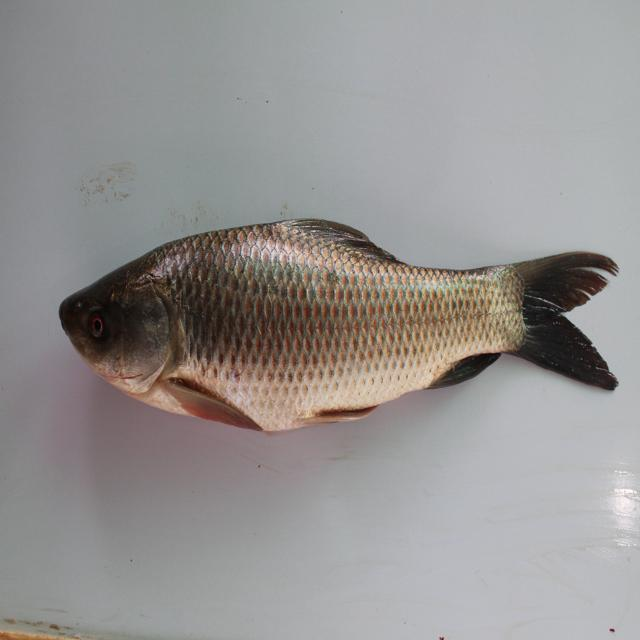Rohu: (36, 216, 620, 439)
